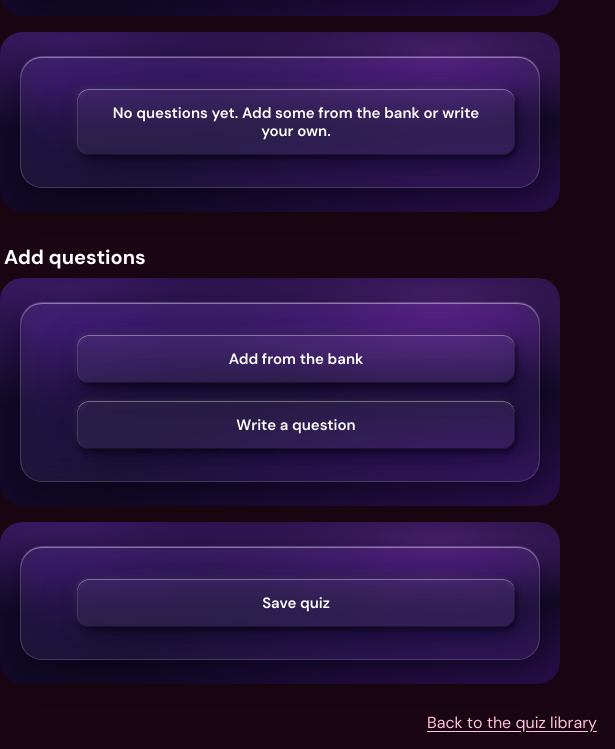
Test: QuizBuilder › won't save an empty quiz, and says why
The width and height of the screenshot is (615, 749).
(page scrolled)
Expected: the text "No questions yet. Add some from the bank or write your own." is shown, [77,89,515,155]
Click the button "Save quiz" at (296, 603), box [77,579,515,627]
(page scrolled)
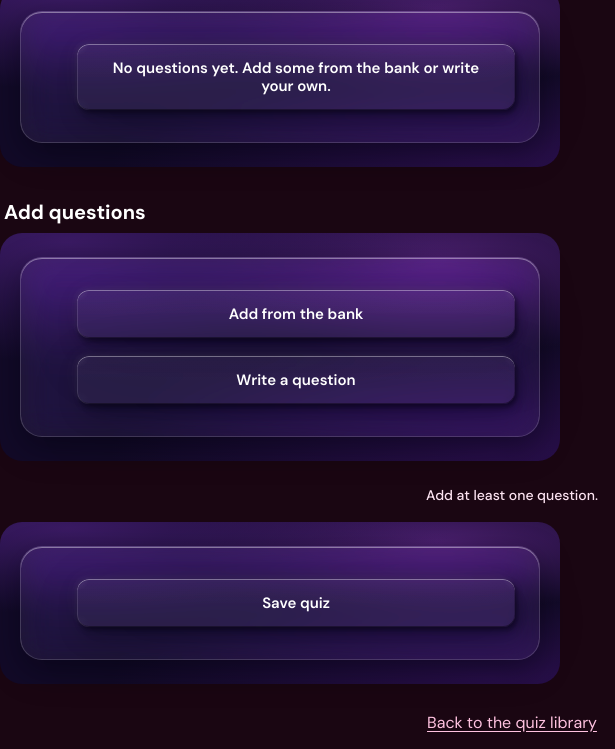
Result: the message reads "Add at least one question." at [426,486,598,504]
